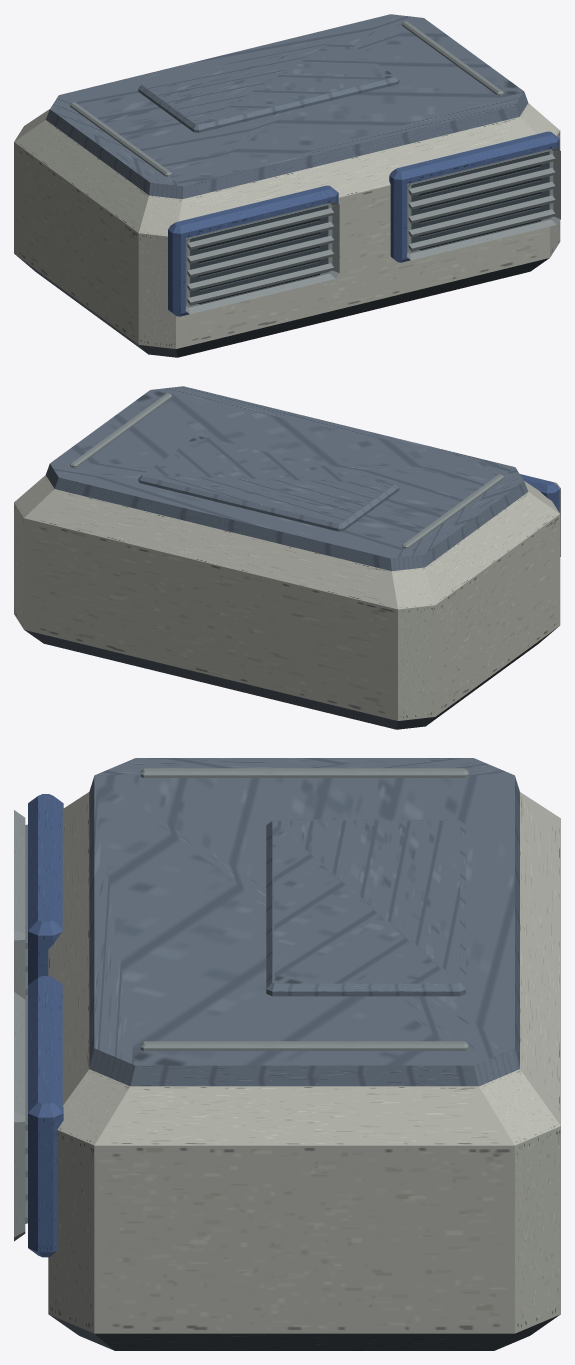
File: ServiceBlock.fbx
3 views of the same model, one above another, from view 1: azimuth 30°, elevation 25°; view 2: azimuth 150°, elevation 25°; view 3: azimuth 270°, elevation 25° (orthographic). The views are drawn at different scales.
Parts seen in each view (by area): view 1: ServiceBlock; view 2: ServiceBlock; view 3: ServiceBlock.
Boxes of the visible parts, x1=… form: ServiceBlock: x1=14, y1=14, x2=560, y2=357; ServiceBlock: x1=14, y1=386, x2=560, y2=729; ServiceBlock: x1=14, y1=758, x2=560, y2=1350.
Bounding box in the file's own units: 1600 × 622 × 1067.
